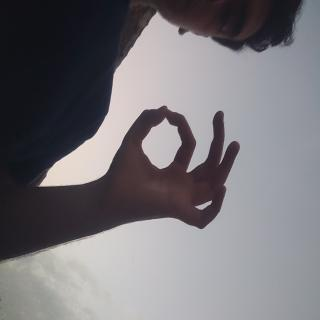Space: (77, 103, 177, 296)
